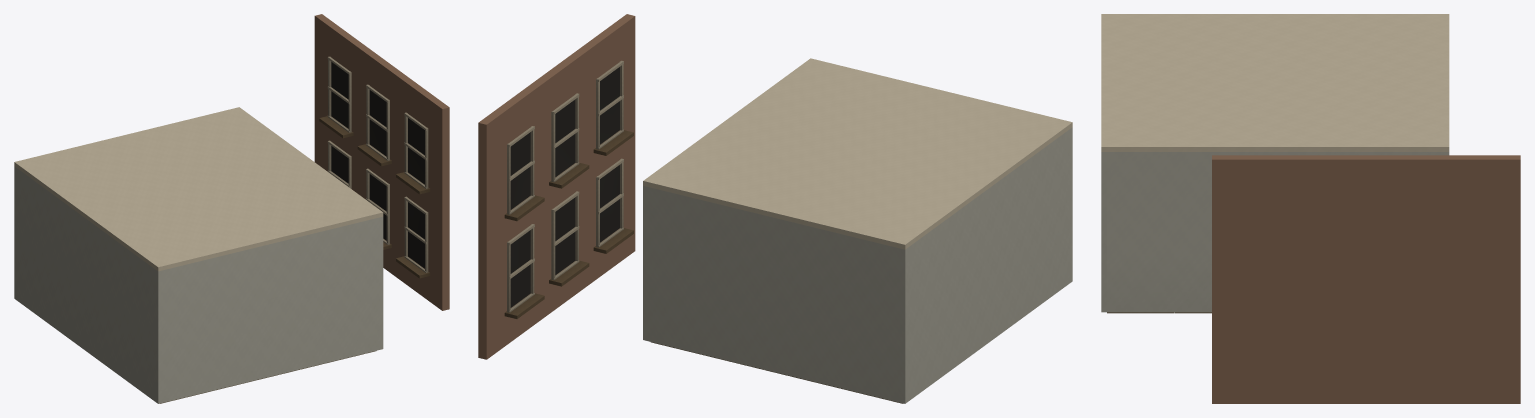
The model's file is household-room.glb.
The picture shows the model from 3 angles, left to right: view 1: azimuth 30°, elevation 25°; view 2: azimuth 150°, elevation 25°; view 3: azimuth 270°, elevation 25°; orthographic projection. The views are drawn at different scales.
Visible parts, largest first — view 1: Plaster, Ceiling, Brick, Recess, Trim, Walnut; view 2: Plaster, Ceiling, Brick, Recess, Trim, Walnut; view 3: Brick, Ceiling, Plaster.
Boxes of the visible parts, <box> form: Plaster: <box>14,166,383,403</box>; Ceiling: <box>14,107,383,271</box>; Brick: <box>314,14,449,310</box>; Recess: <box>331,62,424,268</box>; Trim: <box>327,56,428,272</box>; Walnut: <box>319,116,430,278</box>; Plaster: <box>643,127,1072,403</box>; Ceiling: <box>643,58,1072,249</box>; Brick: <box>478,14,635,359</box>; Recess: <box>510,67,619,307</box>; Trim: <box>507,60,623,312</box>; Walnut: <box>504,130,633,318</box>; Brick: <box>1212,155,1520,403</box>; Ceiling: <box>1101,14,1449,151</box>; Plaster: <box>1101,152,1449,312</box>.
Size of the model in its own units: 8.39 by 4.8 by 7.47.
12 materials, 8 textured.
